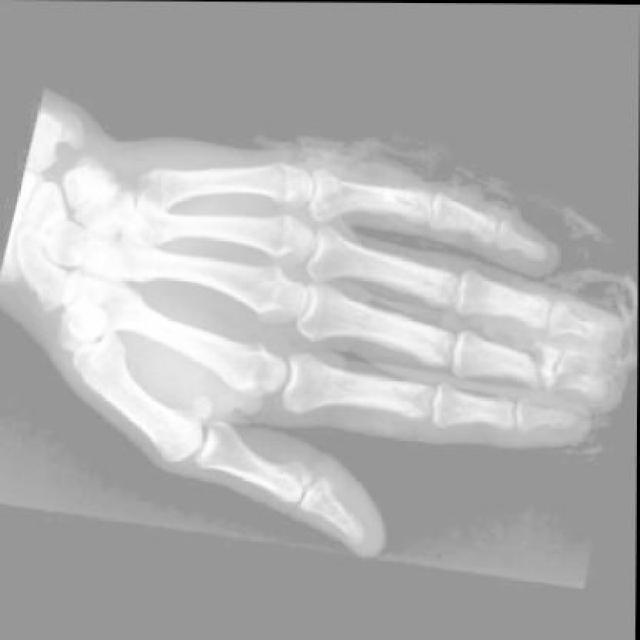Fracture: (555, 343, 616, 396)
